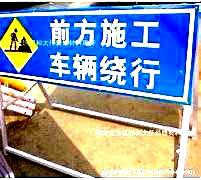sign: (1, 6, 193, 100)
